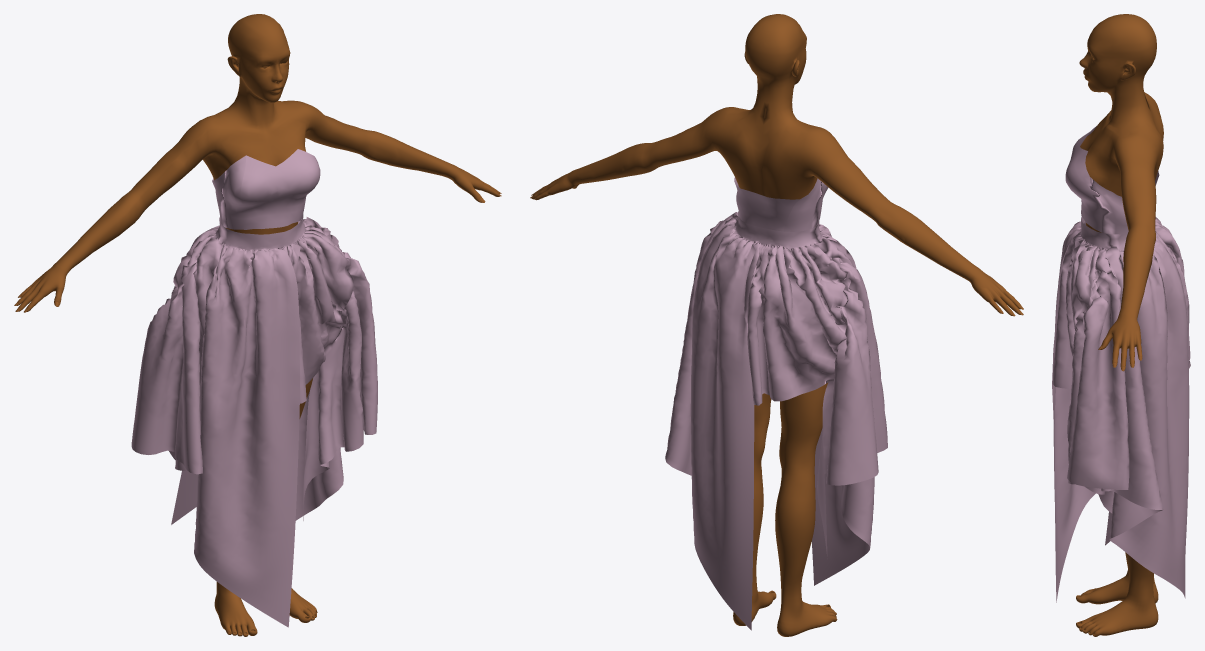
Rendered from dress8.glb.
The picture shows the model from 3 angles, left to right: view 1: azimuth 30°, elevation 25°; view 2: azimuth 150°, elevation 25°; view 3: azimuth 270°, elevation 25°; orthographic projection.
Parts seen in each view (by area): view 1: Project 1, Body; view 2: Project 1, Body; view 3: Project 1, Body.
Part boxes in pixels (x1,y1,x2,y2): Project 1: (131,149,377,627); Body: (16,14,500,636); Project 1: (665,177,887,630); Body: (531,14,1021,636); Project 1: (1052,126,1190,602); Body: (1076,14,1163,636).
Size of the model in its own units: 1.58 by 1.85 by 0.3878.
